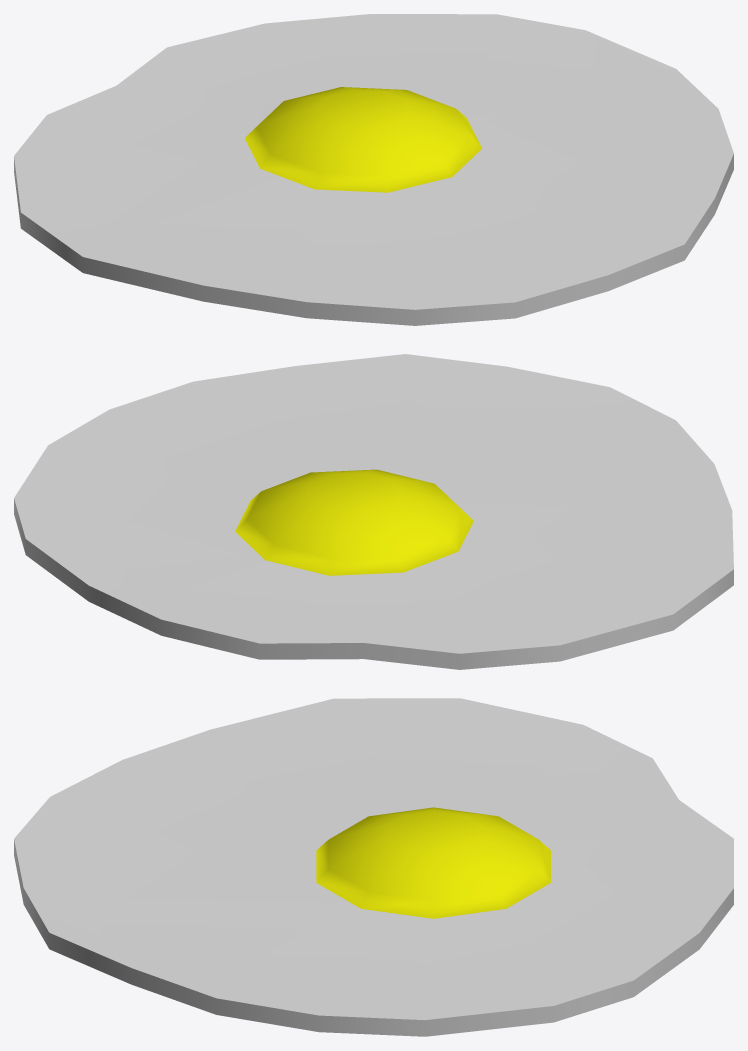
Rendered from EggOnPan.fbx.
3 views of the same model, one above another, from view 1: azimuth 30°, elevation 25°; view 2: azimuth 150°, elevation 25°; view 3: azimuth 270°, elevation 25° (orthographic). The views are drawn at different scales.
Parts seen in each view (by area): view 1: m_EggOnPan; view 2: m_EggOnPan; view 3: m_EggOnPan.
Part boxes in pixels (bbox=[...]): m_EggOnPan: bbox=[14, 14, 733, 325]; m_EggOnPan: bbox=[14, 354, 733, 669]; m_EggOnPan: bbox=[14, 698, 733, 1036].
Size of the model in its own units: 22.52 by 1.62 by 21.28.
